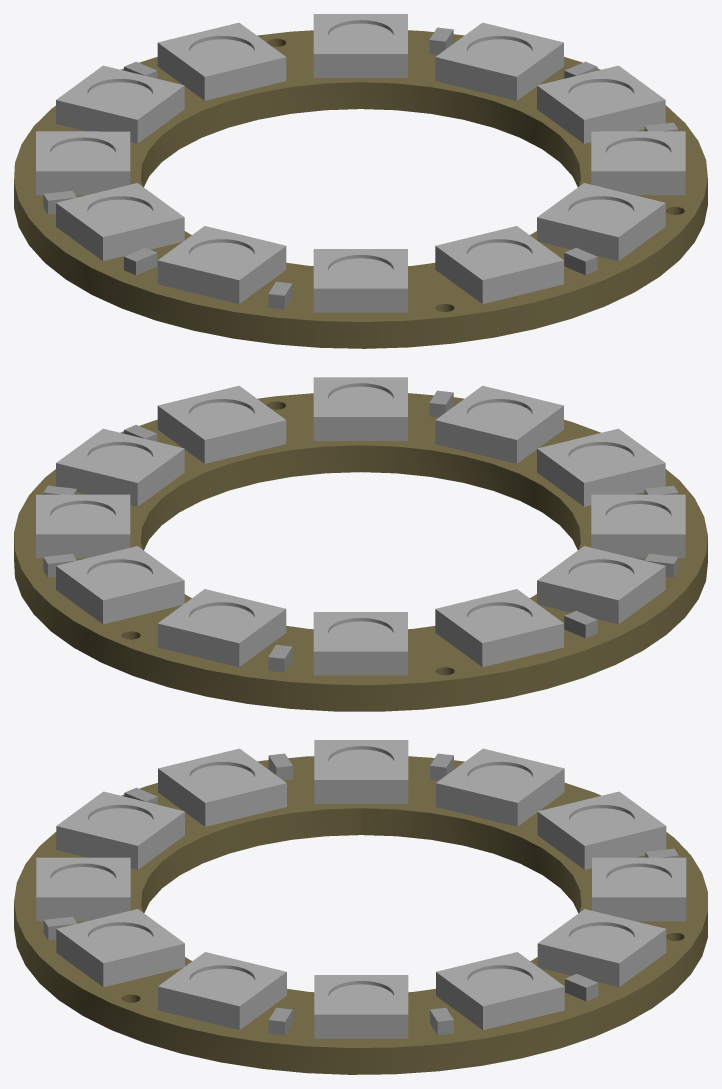
Rendered from ada-2643.glb.
3 renders of one model, top to bottom at view 1: azimuth 30°, elevation 25°; view 2: azimuth 150°, elevation 25°; view 3: azimuth 270°, elevation 25°, orthographic.
Visible parts, largest first — view 1: 0.4166666666666667_0.4166666666666667_0.4166666666666667_0, 0.16666666666666666_0.16666666666666666_0.08333333333333333_, 0.3333333333333333_0.3333333333333333_0.3333333333333333_0; view 2: 0.4166666666666667_0.4166666666666667_0.4166666666666667_0, 0.16666666666666666_0.16666666666666666_0.08333333333333333_, 0.3333333333333333_0.3333333333333333_0.3333333333333333_0; view 3: 0.4166666666666667_0.4166666666666667_0.4166666666666667_0, 0.16666666666666666_0.16666666666666666_0.08333333333333333_, 0.3333333333333333_0.3333333333333333_0.3333333333333333_0.
Boxes of the visible parts, left/top/right/bottom form: 0.4166666666666667_0.4166666666666667_0.4166666666666667_0: left=36, top=14, right=685, bottom=312; 0.16666666666666666_0.16666666666666666_0.08333333333333333_: left=14, top=30, right=707, bottom=348; 0.3333333333333333_0.3333333333333333_0.3333333333333333_0: left=43, top=27, right=678, bottom=309; 0.4166666666666667_0.4166666666666667_0.4166666666666667_0: left=36, top=377, right=685, bottom=675; 0.16666666666666666_0.16666666666666666_0.08333333333333333_: left=14, top=393, right=707, bottom=711; 0.3333333333333333_0.3333333333333333_0.3333333333333333_0: left=43, top=390, right=678, bottom=672; 0.4166666666666667_0.4166666666666667_0.4166666666666667_0: left=36, top=740, right=686, bottom=1038; 0.16666666666666666_0.16666666666666666_0.08333333333333333_: left=14, top=756, right=707, bottom=1074; 0.3333333333333333_0.3333333333333333_0.3333333333333333_0: left=43, top=753, right=678, bottom=1035.
Size of the model in its own units: 3.68 by 0.297 by 3.68.
